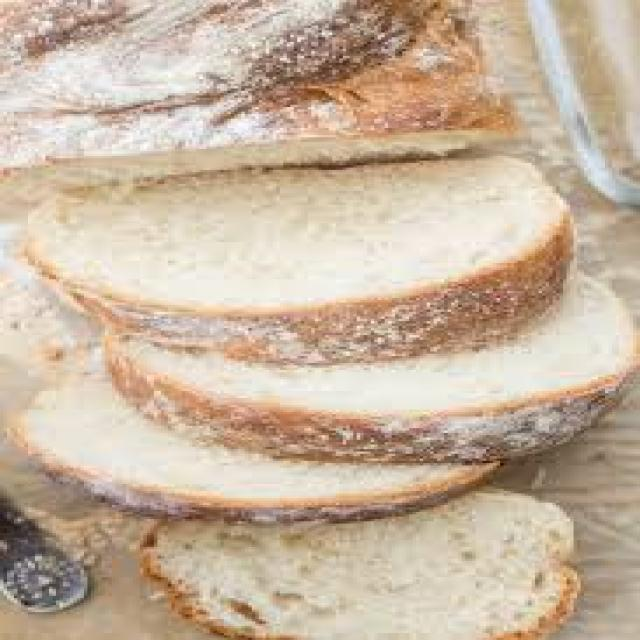organic waste: (21, 156, 570, 363), (94, 265, 636, 461), (0, 0, 511, 200), (7, 370, 497, 521), (140, 484, 577, 638)
